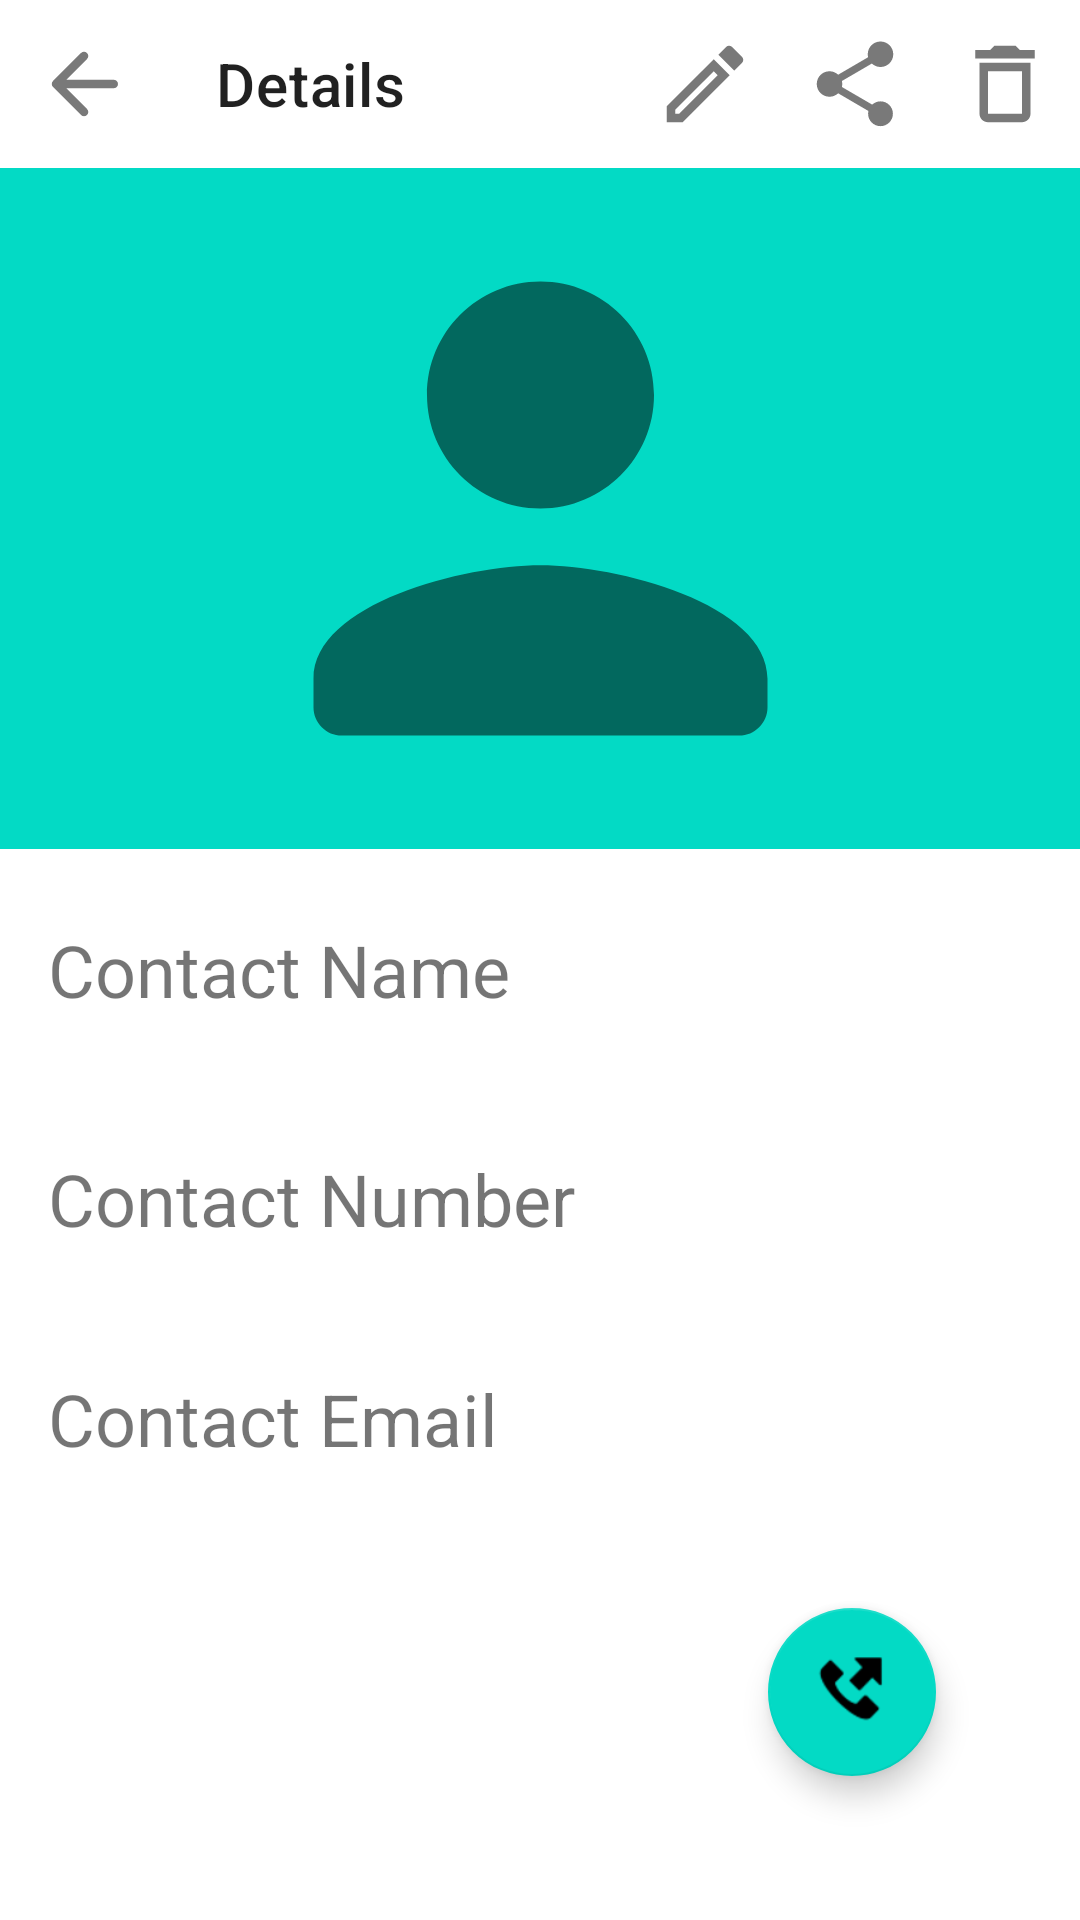

Screen size 1080×1920. Icon name, then its center in pixels as (x=x, y=y):
delete: (x=1005, y=84)
edit: (x=705, y=84)
share: (x=855, y=83)
sym call outgoing: (x=852, y=1692)
